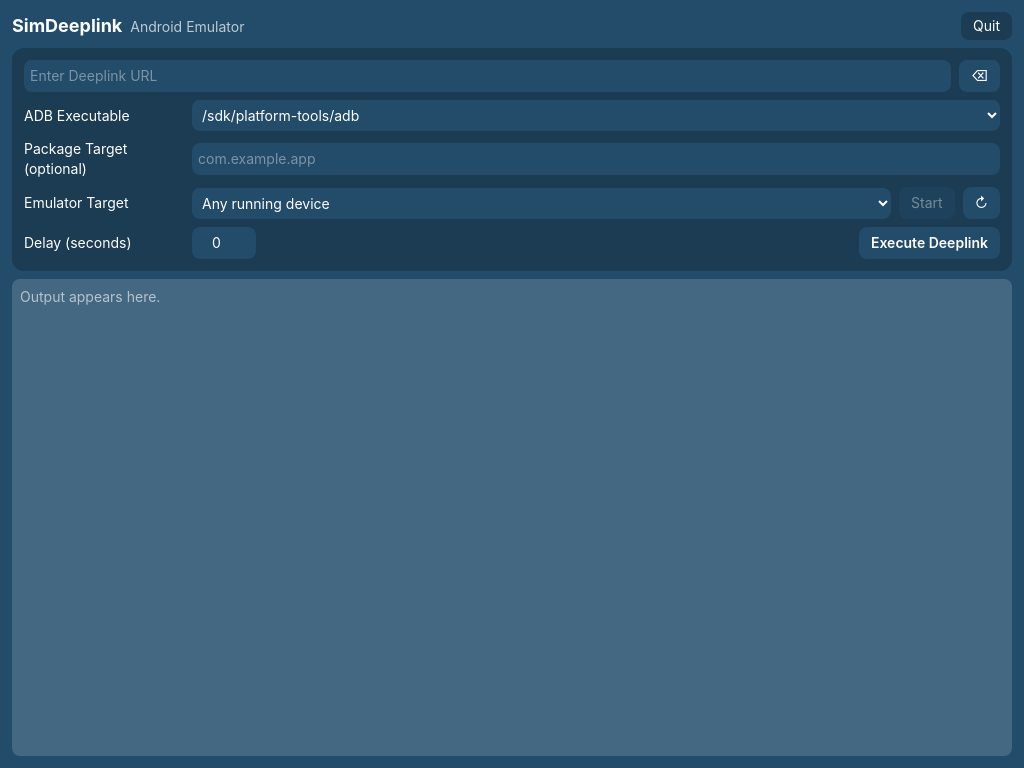
Test: deeplink › shows a failure from the backend in red
Type "myapp://x" into the field labelled "Deeplink URL". click: point(488, 76)
box: [24,60,951,92]
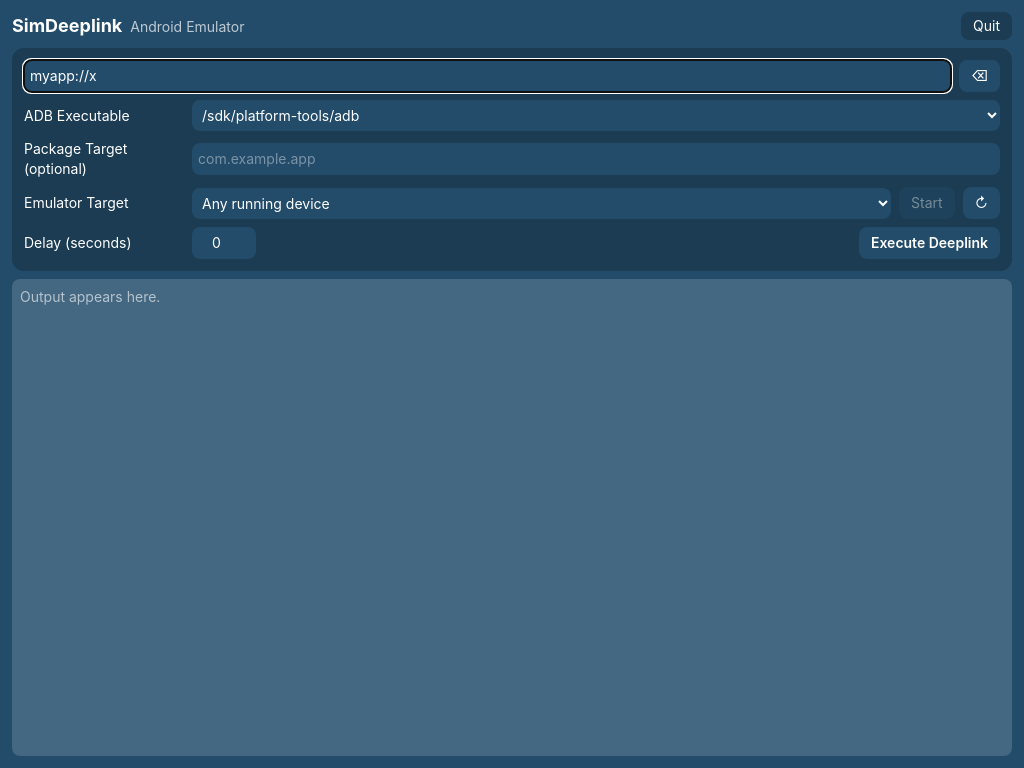
Click the button "Execute Deeplink". click: point(930, 243)
box: [859,227,1000,259]
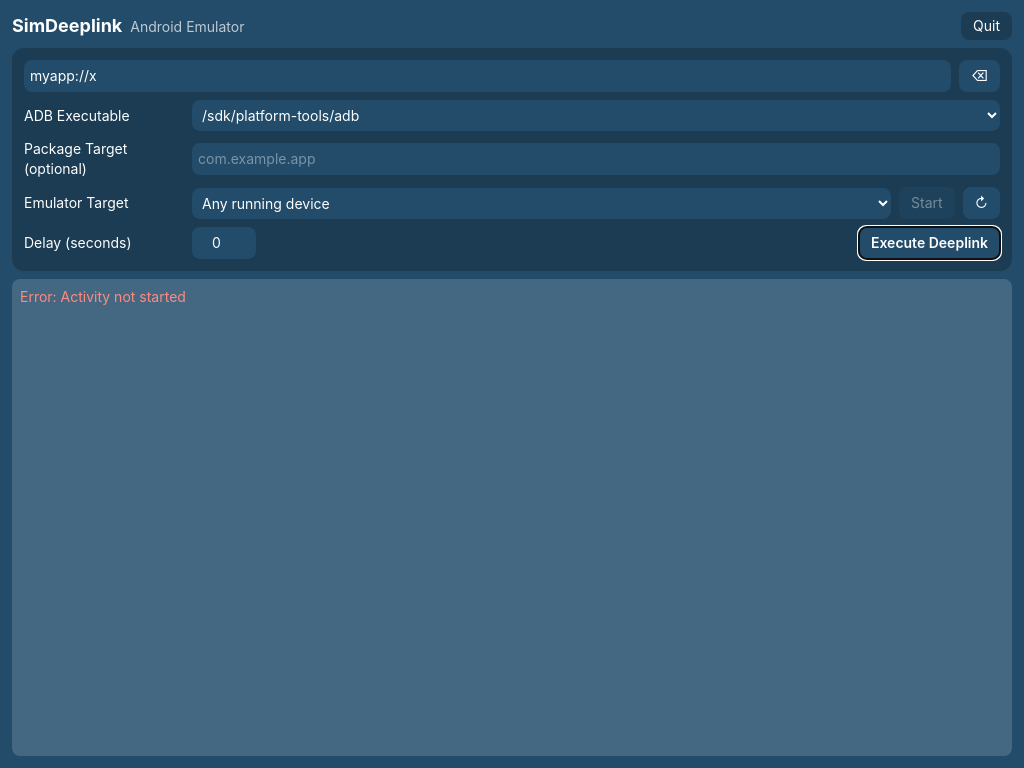
Now the text with test id "output" shows "Activity not started", box [20,288,186,305]
